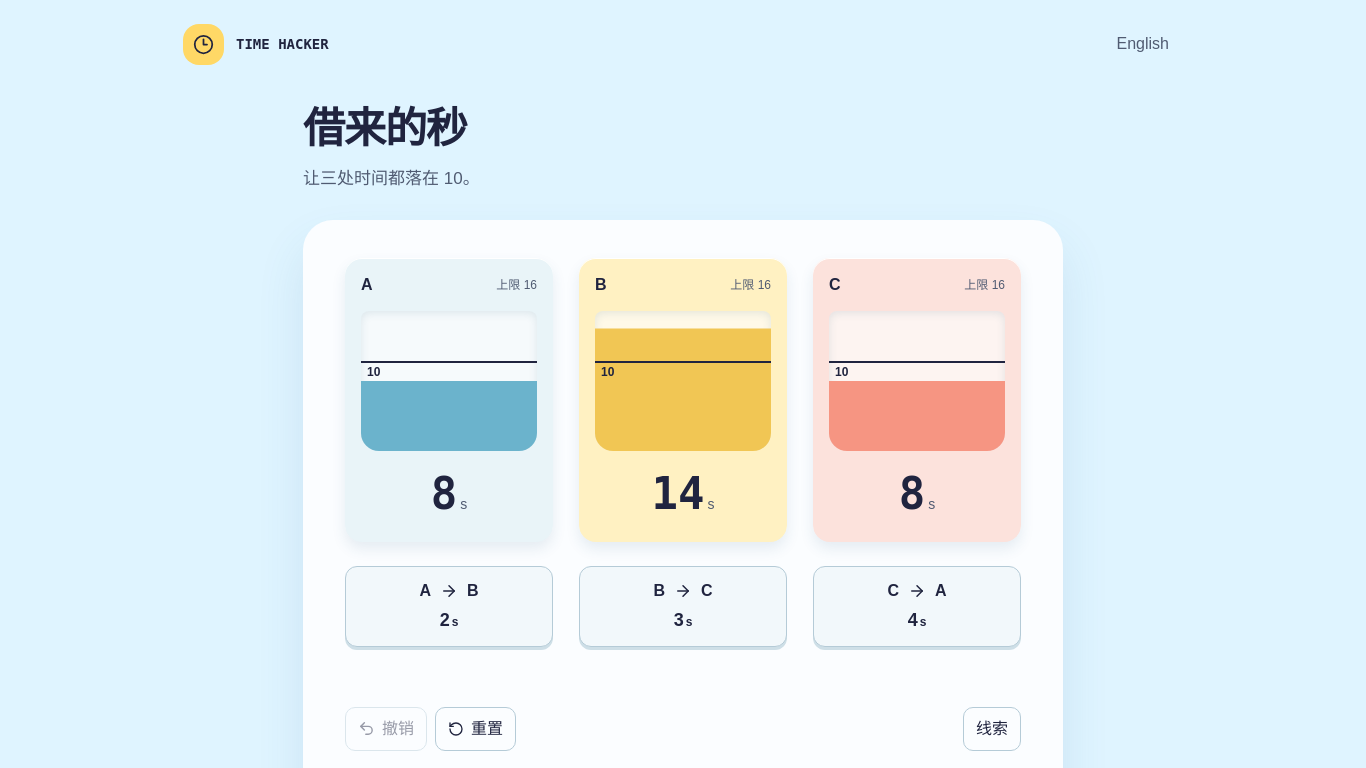
reasoning lab interaction contract › rejects capacity overflow, restores exact undo state and resets on sample switch
The image size is (1366, 768).
Click the button named "A → B · 2s". click: (449, 606)
box: [345, 566, 553, 647]
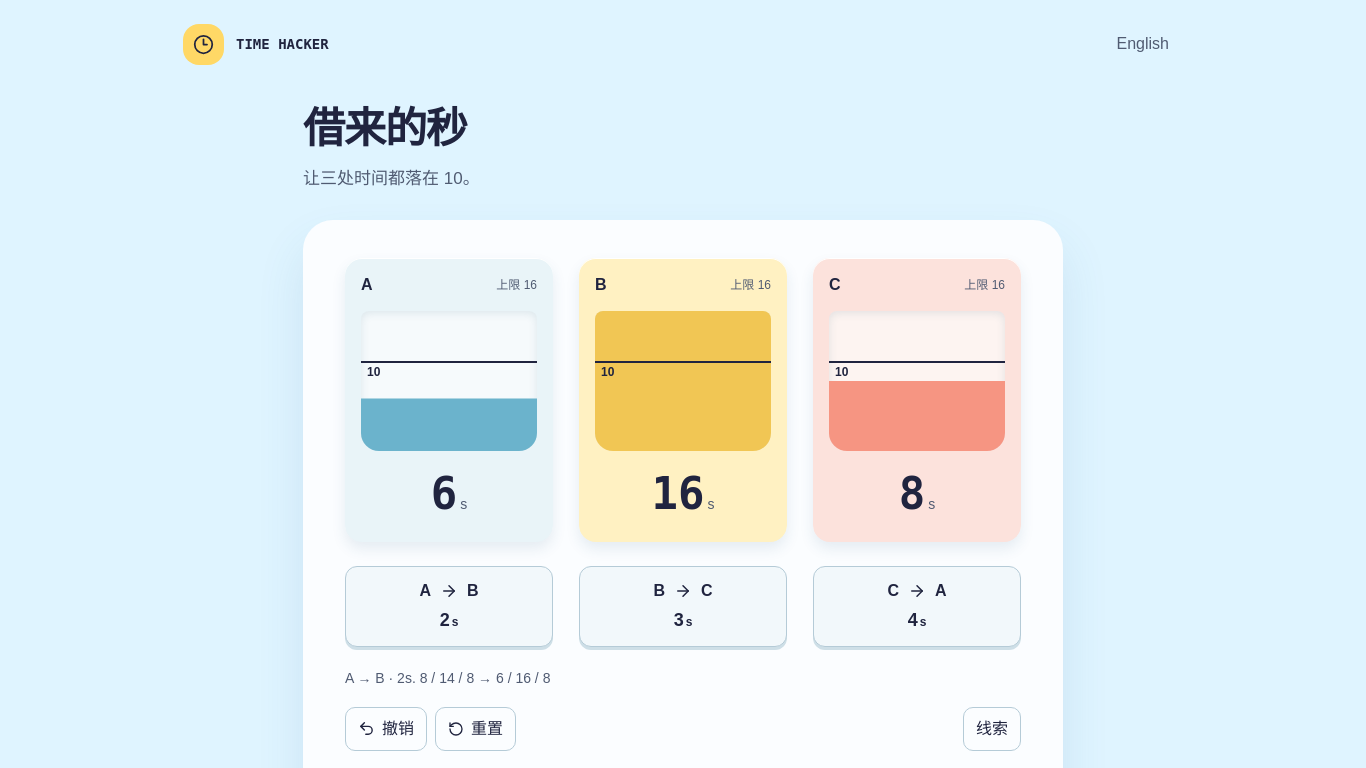
Result: the element named "B 储格" shows "16" at [652, 468, 704, 519]
Click the button named "A → B · 2s". click: (449, 606)
box: [345, 566, 553, 647]
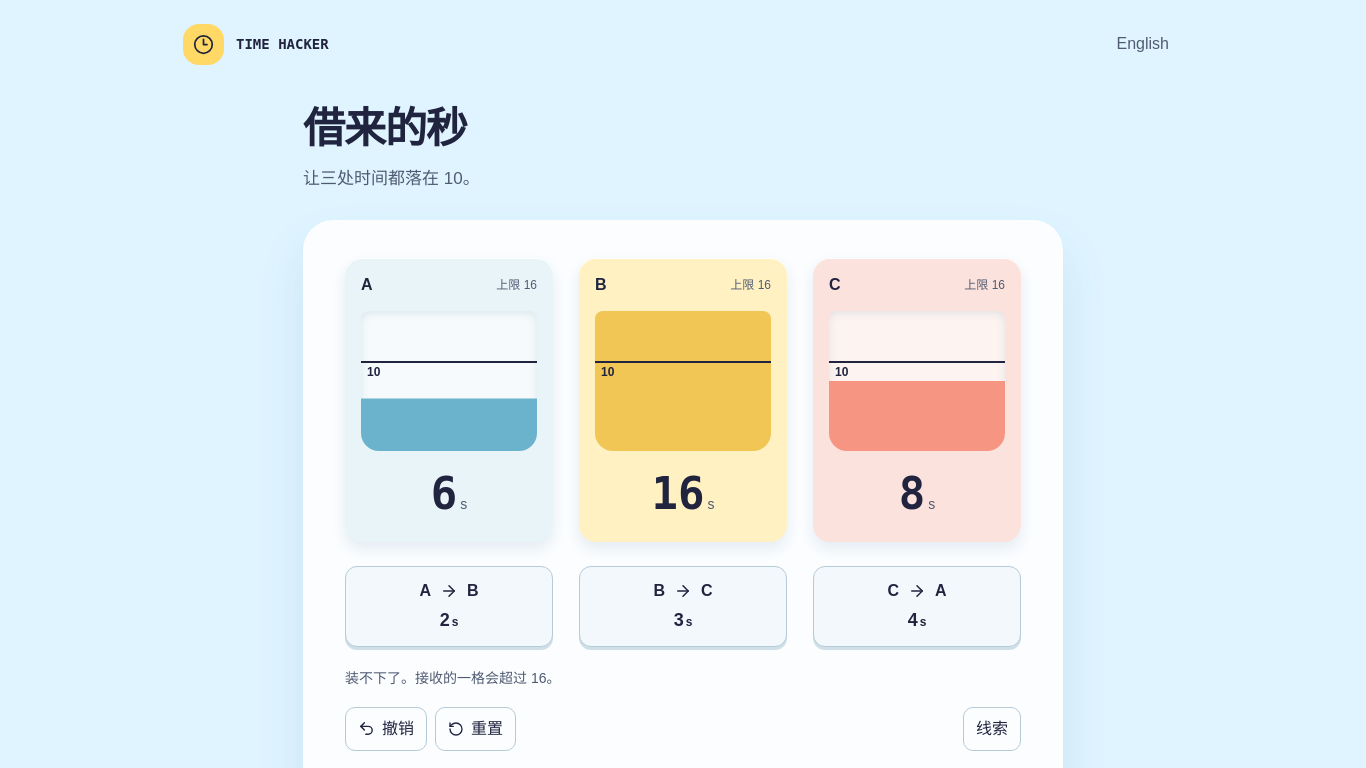
Result: the text "装不下了。接收的一格会超过 16。" is shown at [345, 670, 560, 686]
Click the button "撤销". click: (386, 729)
box: [345, 707, 427, 751]
(page scrolled)
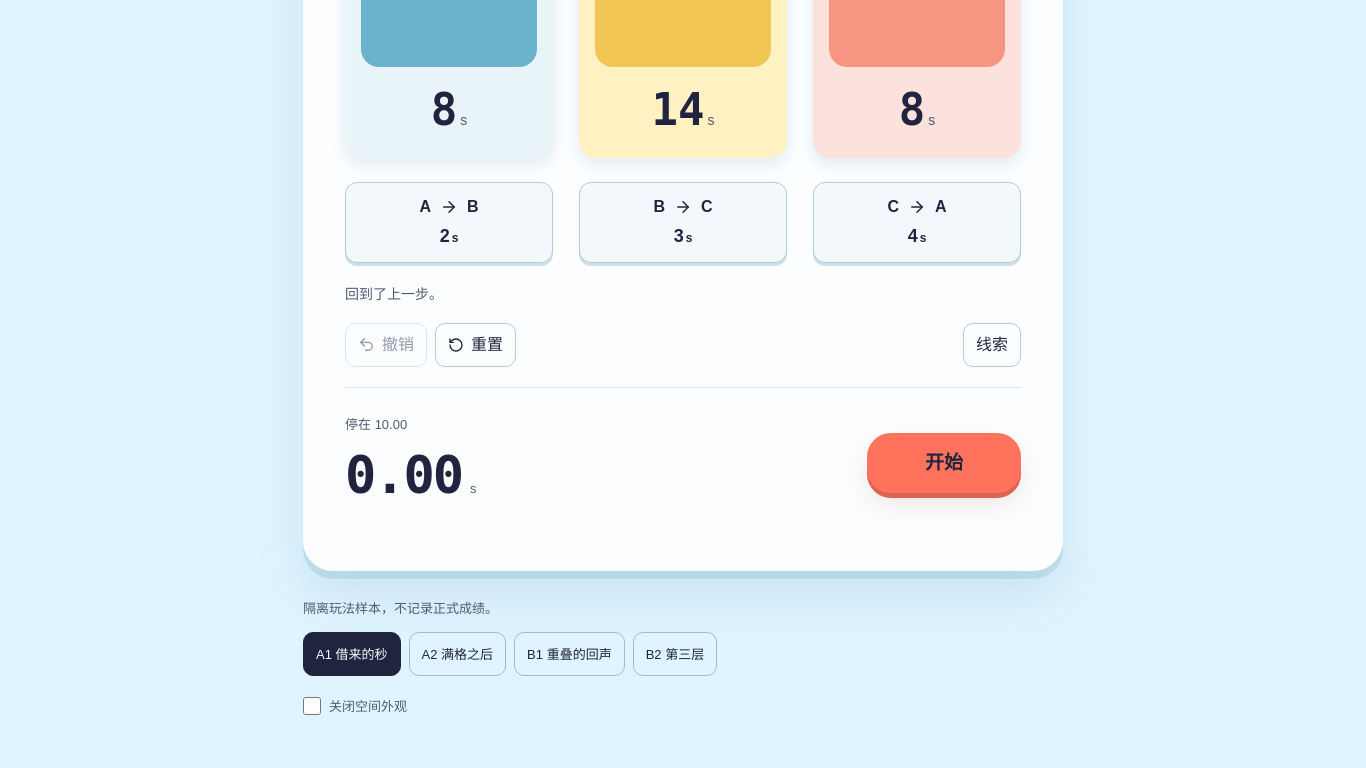
Result: the element named "B 储格" shows "14" at [652, 84, 704, 135]
Click the button "A2 满格之后". click: (457, 654)
box: [408, 632, 506, 676]
(page scrolled)
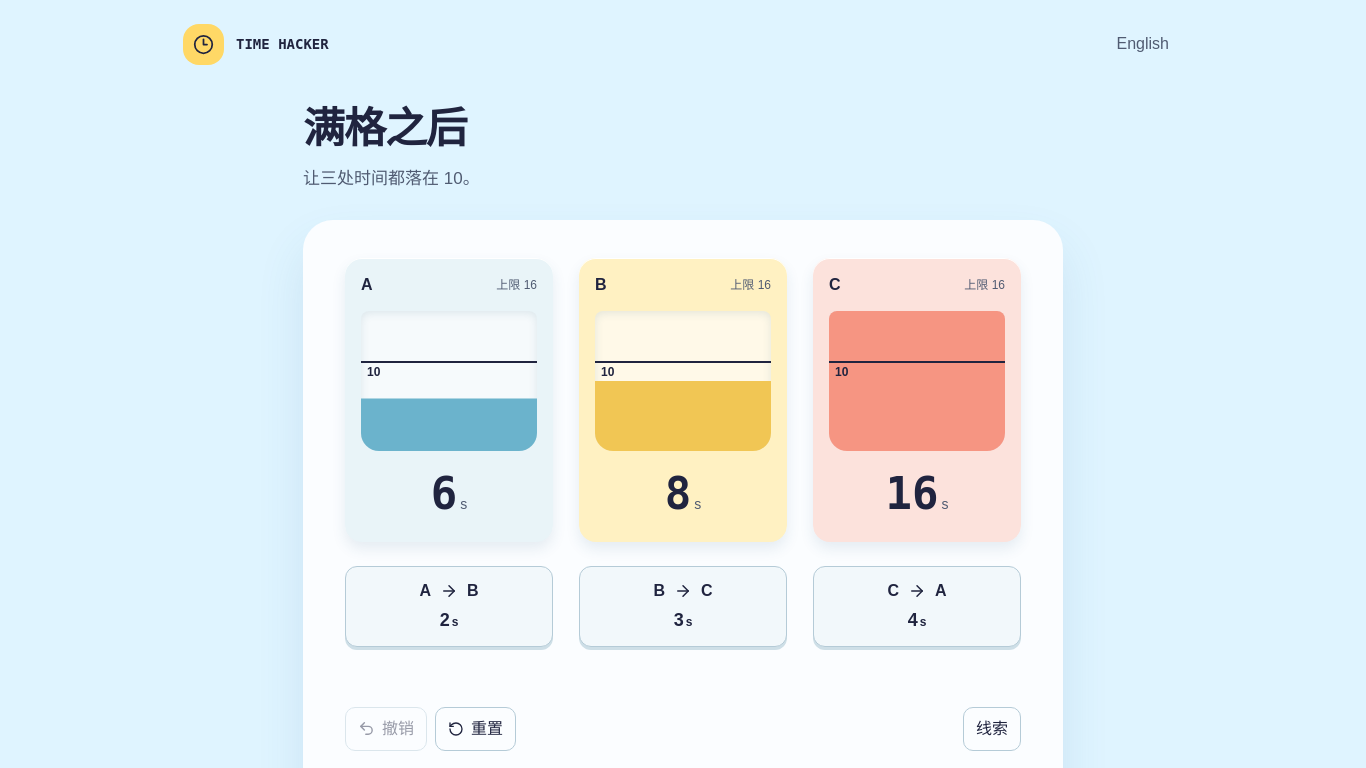
Result: the button "撤销" is disabled at [345, 707, 427, 751]
Result: the element named "A 储格" shows "6" at [431, 468, 457, 519]
